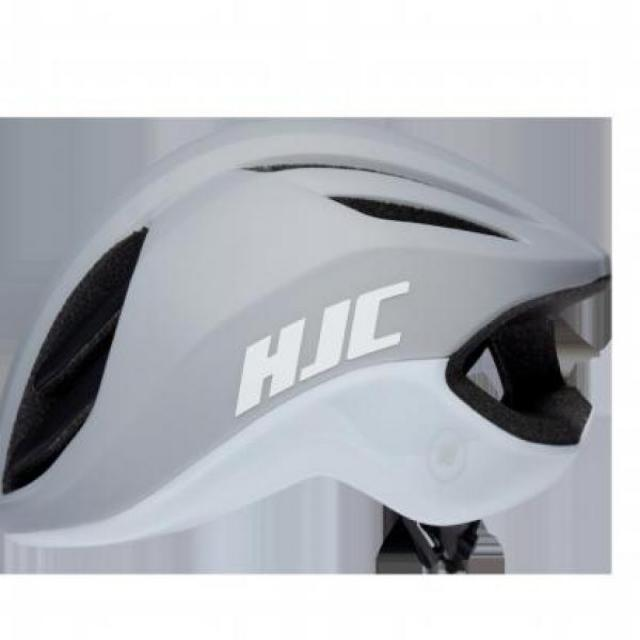Helmet: (13, 143, 566, 523)
